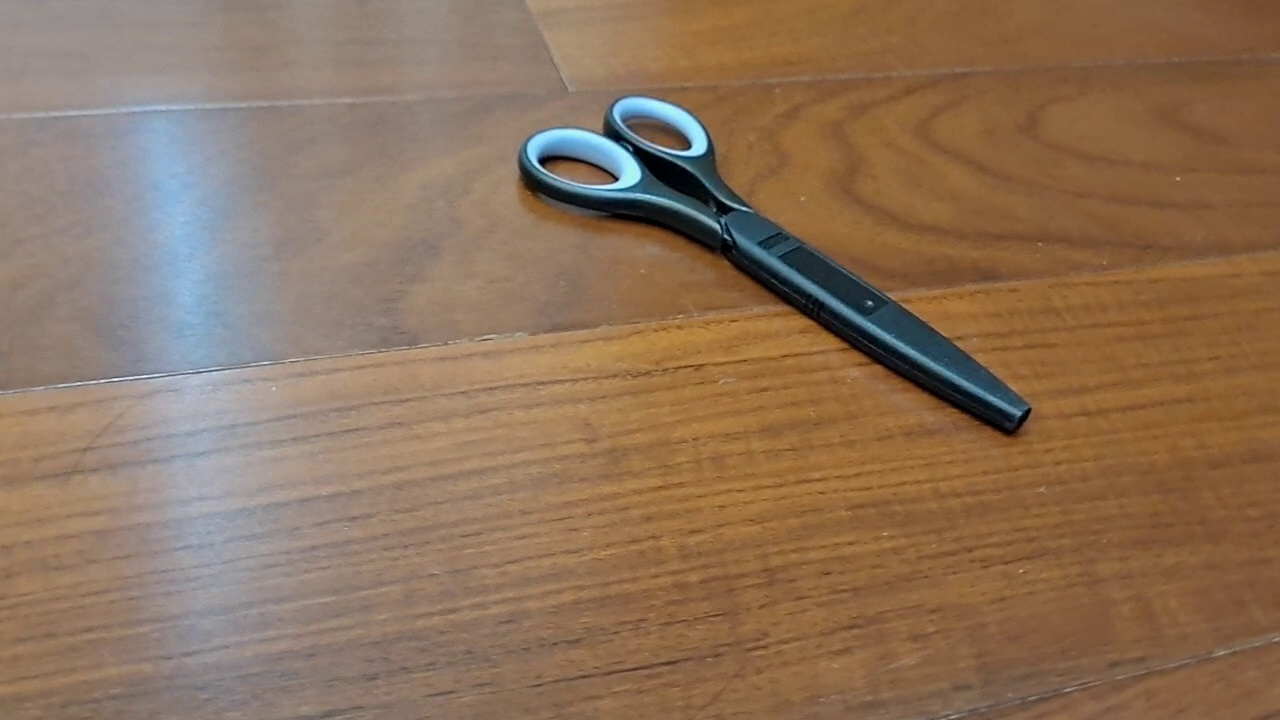scissors: (516, 93, 1033, 438)
